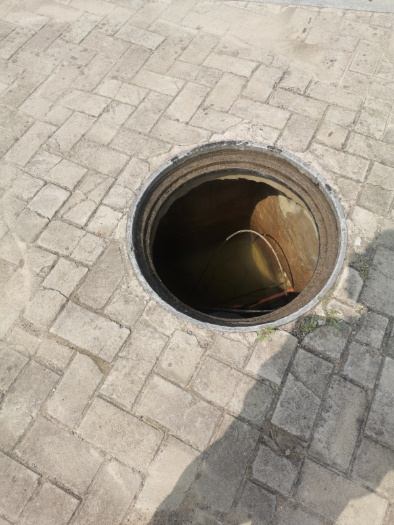well: (126, 142, 348, 331)
